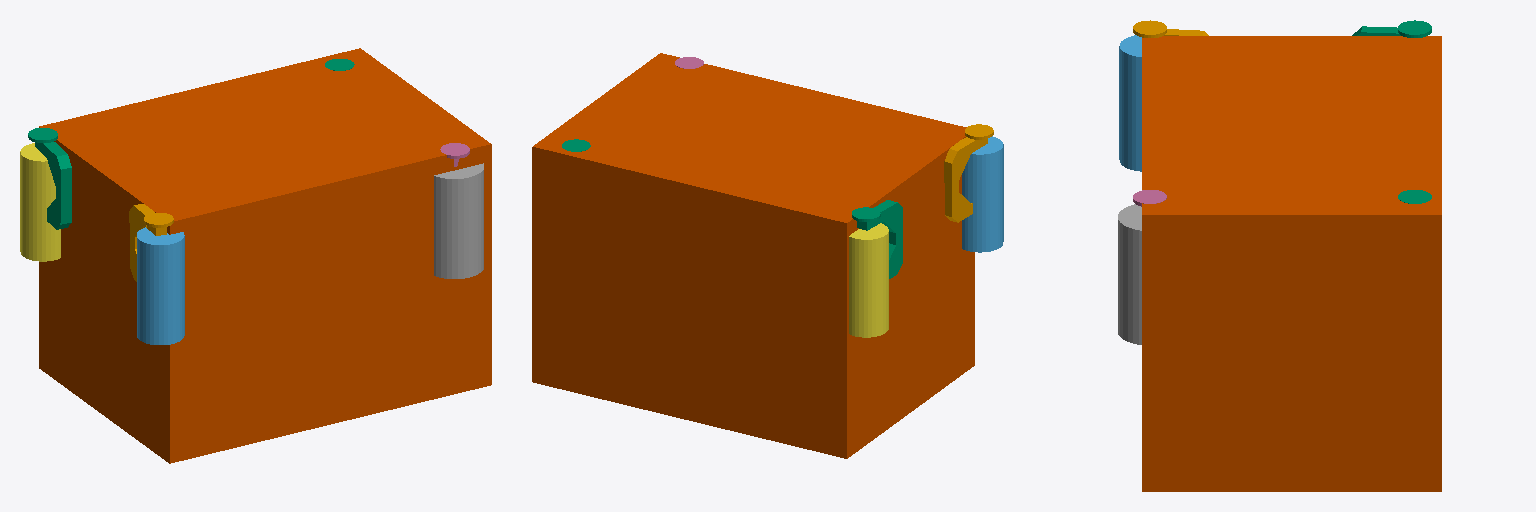
The robot description file, URDF, robot "rover2025":
<robot name="rover2025" version="1.0">
  <joint name="camera1" type="fixed">
    <origin rpy="-0.00000 1.57080 0.00000" xyz="0.33301 -0.09643 0.81950"/>
    <parent link="robot_root"/>
    <child link="new_link.000"/>
  </joint>
  <joint name="gps_locator" type="fixed">
    <origin rpy="0.00000 0.00000 0.00000" xyz="0.09323 0.00000 0.65743"/>
    <parent link="robot_root"/>
    <child link="gps"/>
    <axis xyz="0.00000 0.00000 1.00000"/>
  </joint>
  <joint name="wheel_R_front" type="continuous">
    <limit effort="0.00000" velocity="0.00000"/>
    <origin rpy="-0.00000 -0.00000 0.00000" xyz="-0.00000 -0.00000 -0.15555"/>
    <parent link="robot_wheel_l_front_actuator_link.008"/>
    <child link="robot_wheel_l_front_actuator_link.009"/>
    <axis xyz="0.00000 -1.00000 0.00000"/>
  </joint>
  <joint name="robot_base_joint" type="fixed">
    <origin rpy="-0.00000 -0.00000 0.00000" xyz="0.00000 0.00000 -0.00050"/>
    <parent link="robot_root"/>
    <child link="robot_base"/>
  </joint>
  <joint name="rotate_L_back" type="revolute">
    <limit lower="-2.96706" upper="2.96706" effort="0.00000" velocity="0.00000"/>
    <origin rpy="-0.00000 -0.00000 0.00000" xyz="0.43705 -0.37063 0.32476"/>
    <parent link="robot_base"/>
    <child link="robot_wheel_l_front_actuator_link.005"/>
    <axis xyz="0.00000 0.00000 1.00000"/>
  </joint>
  <joint name="wheel_L_back" type="continuous">
    <limit effort="0.00000" velocity="0.00000"/>
    <origin rpy="0.00000 -0.00000 -0.00000" xyz="-0.00000 0.00000 -0.15555"/>
    <parent link="robot_wheel_l_front_actuator_link.005"/>
    <child link="robot_wheel_l_front_actuator_link.006"/>
    <axis xyz="0.00000 -1.00000 0.00000"/>
  </joint>
  <joint name="rotate_L_front" type="revolute">
    <limit lower="-2.96706" upper="2.96706" effort="0.00000" velocity="0.00000"/>
    <origin rpy="-0.00000 -0.00000 0.00000" xyz="-0.57753 -0.37063 0.32476"/>
    <parent link="robot_base"/>
    <child link="robot_wheel_l_front_actuator_link.003"/>
    <axis xyz="0.00000 0.00000 1.00000"/>
  </joint>
  <joint name="wheel_L_front" type="continuous">
    <limit effort="0.00000" velocity="0.00000"/>
    <origin rpy="0.00000 -0.00000 -0.00000" xyz="-0.00000 0.00000 -0.15555"/>
    <parent link="robot_wheel_l_front_actuator_link.003"/>
    <child link="robot_wheel_l_front_actuator_link.004"/>
    <axis xyz="0.00000 -1.00000 0.00000"/>
  </joint>
  <joint name="rotate_R_back" type="revolute">
    <limit lower="-2.96706" upper="2.96706" effort="0.00000" velocity="0.00000"/>
    <origin rpy="0.00000 -0.00000 -3.14159" xyz="0.43705 0.32063 0.32476"/>
    <parent link="robot_base"/>
    <child link="robot_wheel_l_front_actuator_link.011"/>
    <axis xyz="0.00000 0.00000 1.00000"/>
  </joint>
  <joint name="wheel_R_back" type="continuous">
    <limit effort="0.00000" velocity="0.00000"/>
    <origin rpy="-0.00000 -0.00000 0.00000" xyz="0.00000 0.00000 -0.15555"/>
    <parent link="robot_wheel_l_front_actuator_link.011"/>
    <child link="robot_wheel_l_front_actuator_link.012"/>
    <axis xyz="0.00000 -1.00000 0.00000"/>
  </joint>
  <joint name="rotate_R_front" type="revolute">
    <limit lower="-2.96706" upper="2.96706" effort="0.00000" velocity="0.00000"/>
    <origin rpy="0.00000 -0.00000 -3.14159" xyz="-0.57753 0.32063 0.32476"/>
    <parent link="robot_base"/>
    <child link="robot_wheel_l_front_actuator_link.008"/>
    <axis xyz="0.00000 0.00000 1.00000"/>
  </joint>
  <link name="robot_root">
    <collision name="body_collision">
      <origin rpy="0.00000 0.00000 0.00000" xyz="-0.01465 -0.00549 0.16037"/>
      <geometry>
        <box size="1.22213 0.86180 0.62853"/>
      </geometry>
    </collision>
  </link>
  <link name="new_link.000">
    <sensor name="rgbd" type="camera">
      <origin rpy="0.00000 0.00000 0.00000" xyz="-0.00000 0.00000 0.00000"/>
      <parent link="new_link.000"/>
      <camera>
        <image>
          <width>1080</width>
          <height>1920</height>
          <hfov>1.57080</hfov>
        </image>
      </camera>
    </sensor>
  </link>
  <link name="robot_wheel_l_front_actuator_link.008">
    <inertial>
      <inertia ixx="0.00100" ixy="0.00000" ixz="0.00000" iyy="0.00100" iyz="-0.00000" izz="0.00100"/>
      <origin rpy="0.00000 0.00000 0.00000" xyz="0.00000 0.00000 -0.00000"/>
      <mass value="1.00000"/>
    </inertial>
    <visual name="bone-r-1">
      <material name="None"/>
      <origin rpy="0.00000 0.00000 1.57080" xyz="-0.00377 0.00334 0.07903"/>
      <geometry>
        <mesh filename="../meshes/stl/Science.422.stl" scale="1 1 1"/>
      </geometry>
    </visual>
  </link>
  <link name="robot_wheel_l_front_actuator_link.009">
    <collision name="wheel-r-1_collision">
      <origin rpy="-1.48431 1.57080 -3.05510" xyz="-0.00072 0.00138 0.00304"/>
      <geometry>
        <cylinder radius="0.16928" length="0.15235"/>
      </geometry>
    </collision>
    <visual name="wheel-r-1">
      <material name="None"/>
      <origin rpy="0.00000 0.00000 1.57080" xyz="-0.00334 0.00643 0.01418"/>
      <geometry>
        <cylinder radius="0.06742" length="0.32599"/>
      </geometry>
    </visual>
  </link>
  <link name="gps">
    <sensor name="gps.001" type="GPS">
      <parent link="gps"/>
    </sensor>
  </link>
  <link name="robot_base">
    <visual name="body">
      <material name="None"/>
      <origin rpy="-0.00000 0.00000 -0.00000" xyz="-0.00000 -0.00000 0.00050"/>
      <geometry>
        <box size="1.09671 0.77336 0.78564"/>
      </geometry>
    </visual>
  </link>
  <link name="robot_wheel_l_front_actuator_link.005">
    <inertial>
      <inertia ixx="0.00100" ixy="-0.00000" ixz="-0.00000" iyy="0.00100" iyz="0.00000" izz="0.00100"/>
      <origin rpy="0.00000 0.00000 0.00000" xyz="0.00000 0.00000 -0.00000"/>
      <mass value="1.00000"/>
    </inertial>
    <visual name="bone-l-2">
      <material name="None"/>
      <origin rpy="-0.00000 -0.00000 -1.57080" xyz="-0.00056 0.00243 0.06913"/>
      <geometry>
        <mesh filename="../meshes/stl/Science.479.stl" scale="1 1 1"/>
      </geometry>
    </visual>
  </link>
  <link name="robot_wheel_l_front_actuator_link.006">
    <collision name="wheel-l-2_collision">
      <origin rpy="-1.65729 1.57080 -0.08649" xyz="-0.00000 0.00000 0.00000"/>
      <geometry>
        <cylinder radius="0.16855" length="0.20103"/>
      </geometry>
    </collision>
    <visual name="wheel-l-2">
      <material name="None"/>
      <origin rpy="-0.00000 -0.00000 -1.57080" xyz="-0.00094 0.00902 0.00436"/>
      <geometry>
        <cylinder radius="0.08897" length="0.32599"/>
      </geometry>
    </visual>
  </link>
  <link name="robot_wheel_l_front_actuator_link.003">
    <inertial>
      <inertia ixx="0.00100" ixy="-0.00000" ixz="-0.00000" iyy="0.00100" iyz="0.00000" izz="0.00100"/>
      <origin rpy="0.00000 0.00000 0.00000" xyz="0.00000 0.00000 -0.00000"/>
      <mass value="1.00000"/>
    </inertial>
    <visual name="bone-l-1">
      <material name="None"/>
      <origin rpy="0.00000 -0.00000 1.57080" xyz="0.00364 0.00244 0.07904"/>
      <geometry>
        <mesh filename="../meshes/stl/Science.483.stl" scale="1 1 1"/>
      </geometry>
    </visual>
  </link>
  <link name="robot_wheel_l_front_actuator_link.004">
    <collision name="wheel-l-1_collision">
      <origin rpy="-1.50651 1.57080 0.06429" xyz="0.00087 0.00096 0.00304"/>
      <geometry>
        <cylinder radius="0.16882" length="0.18304"/>
      </geometry>
    </collision>
    <visual name="wheel-l-1">
      <material name="None"/>
      <origin rpy="0.00000 0.00000 1.57080" xyz="0.00517 -0.00424 0.02084"/>
      <geometry>
        <cylinder radius="0.07091" length="0.32602"/>
      </geometry>
    </visual>
  </link>
  <link name="robot_wheel_l_front_actuator_link.011">
    <inertial>
      <inertia ixx="0.00100" ixy="0.00000" ixz="0.00000" iyy="0.00100" iyz="0.00000" izz="0.00100"/>
      <origin rpy="0.00000 0.00000 0.00000" xyz="0.00000 0.00000 -0.00000"/>
      <mass value="1.00000"/>
    </inertial>
    <visual name="bone-r-2">
      <material name="None"/>
      <origin rpy="-0.00000 -0.00000 -1.57080" xyz="0.00033 0.00341 0.06913"/>
      <geometry>
        <mesh filename="../meshes/stl/Science.488.stl" scale="1 1 1"/>
      </geometry>
    </visual>
  </link>
  <link name="robot_wheel_l_front_actuator_link.012">
    <collision name="wheel-r-2_collision">
      <origin rpy="-1.51965 1.57080 -3.09044" xyz="0.00003 0.00215 0.00094"/>
      <geometry>
        <cylinder radius="0.16593" length="0.16927"/>
      </geometry>
    </collision>
    <visual name="wheel-r-2">
      <material name="None"/>
      <origin rpy="-0.00000 0.00000 -1.57080" xyz="0.00013 0.01000 0.00436"/>
      <geometry>
        <cylinder radius="0.07492" length="0.32598"/>
      </geometry>
    </visual>
  </link>
</robot>

--- What the picture shows (computed from the rendered views, not written in the file) ---
Views: 3 orthographic renders of the robot side by side, from view 1: azimuth 30°, elevation 25°; view 2: azimuth 150°, elevation 25°; view 3: azimuth 270°, elevation 25°.
Robot: rover2025 — 12 links, 11 joints (4 revolute, 4 continuous, 3 fixed); root link robot_root; default pose: every joint at zero.
Links seen in each view (by area): view 1: robot_base, robot_wheel_l_front_actuator_link.006, robot_wheel_l_front_actuator_link.004, robot_wheel_l_front_actuator_link.009, robot_wheel_l_front_actuator_link.008, robot_wheel_l_front_actuator_link.003; view 2: robot_base, robot_wheel_l_front_actuator_link.009, robot_wheel_l_front_actuator_link.004, robot_wheel_l_front_actuator_link.003, robot_wheel_l_front_actuator_link.008; view 3: robot_base, robot_wheel_l_front_actuator_link.006, robot_wheel_l_front_actuator_link.004, robot_wheel_l_front_actuator_link.008, robot_wheel_l_front_actuator_link.003.
Link boxes in pixels (x1,y1,x2,y2): robot_base: (39, 48, 491, 463); robot_wheel_l_front_actuator_link.006: (434, 163, 483, 278); robot_wheel_l_front_actuator_link.004: (137, 227, 184, 344); robot_wheel_l_front_actuator_link.009: (20, 143, 60, 261); robot_wheel_l_front_actuator_link.008: (28, 128, 71, 229); robot_wheel_l_front_actuator_link.003: (129, 204, 173, 281); robot_base: (532, 53, 974, 458); robot_wheel_l_front_actuator_link.009: (849, 223, 888, 337); robot_wheel_l_front_actuator_link.004: (962, 136, 1003, 252); robot_wheel_l_front_actuator_link.003: (944, 124, 993, 222); robot_wheel_l_front_actuator_link.008: (852, 200, 902, 278); robot_base: (1142, 36, 1441, 491); robot_wheel_l_front_actuator_link.006: (1118, 204, 1141, 344); robot_wheel_l_front_actuator_link.004: (1119, 35, 1141, 171); robot_wheel_l_front_actuator_link.008: (1352, 20, 1431, 37); robot_wheel_l_front_actuator_link.003: (1133, 20, 1208, 37).
Size in the robot's own frame: 1.19 by 0.8373 by 0.7965 metres.
4 mesh visuals loaded from 4 distinct referenced files (4 binary STL).